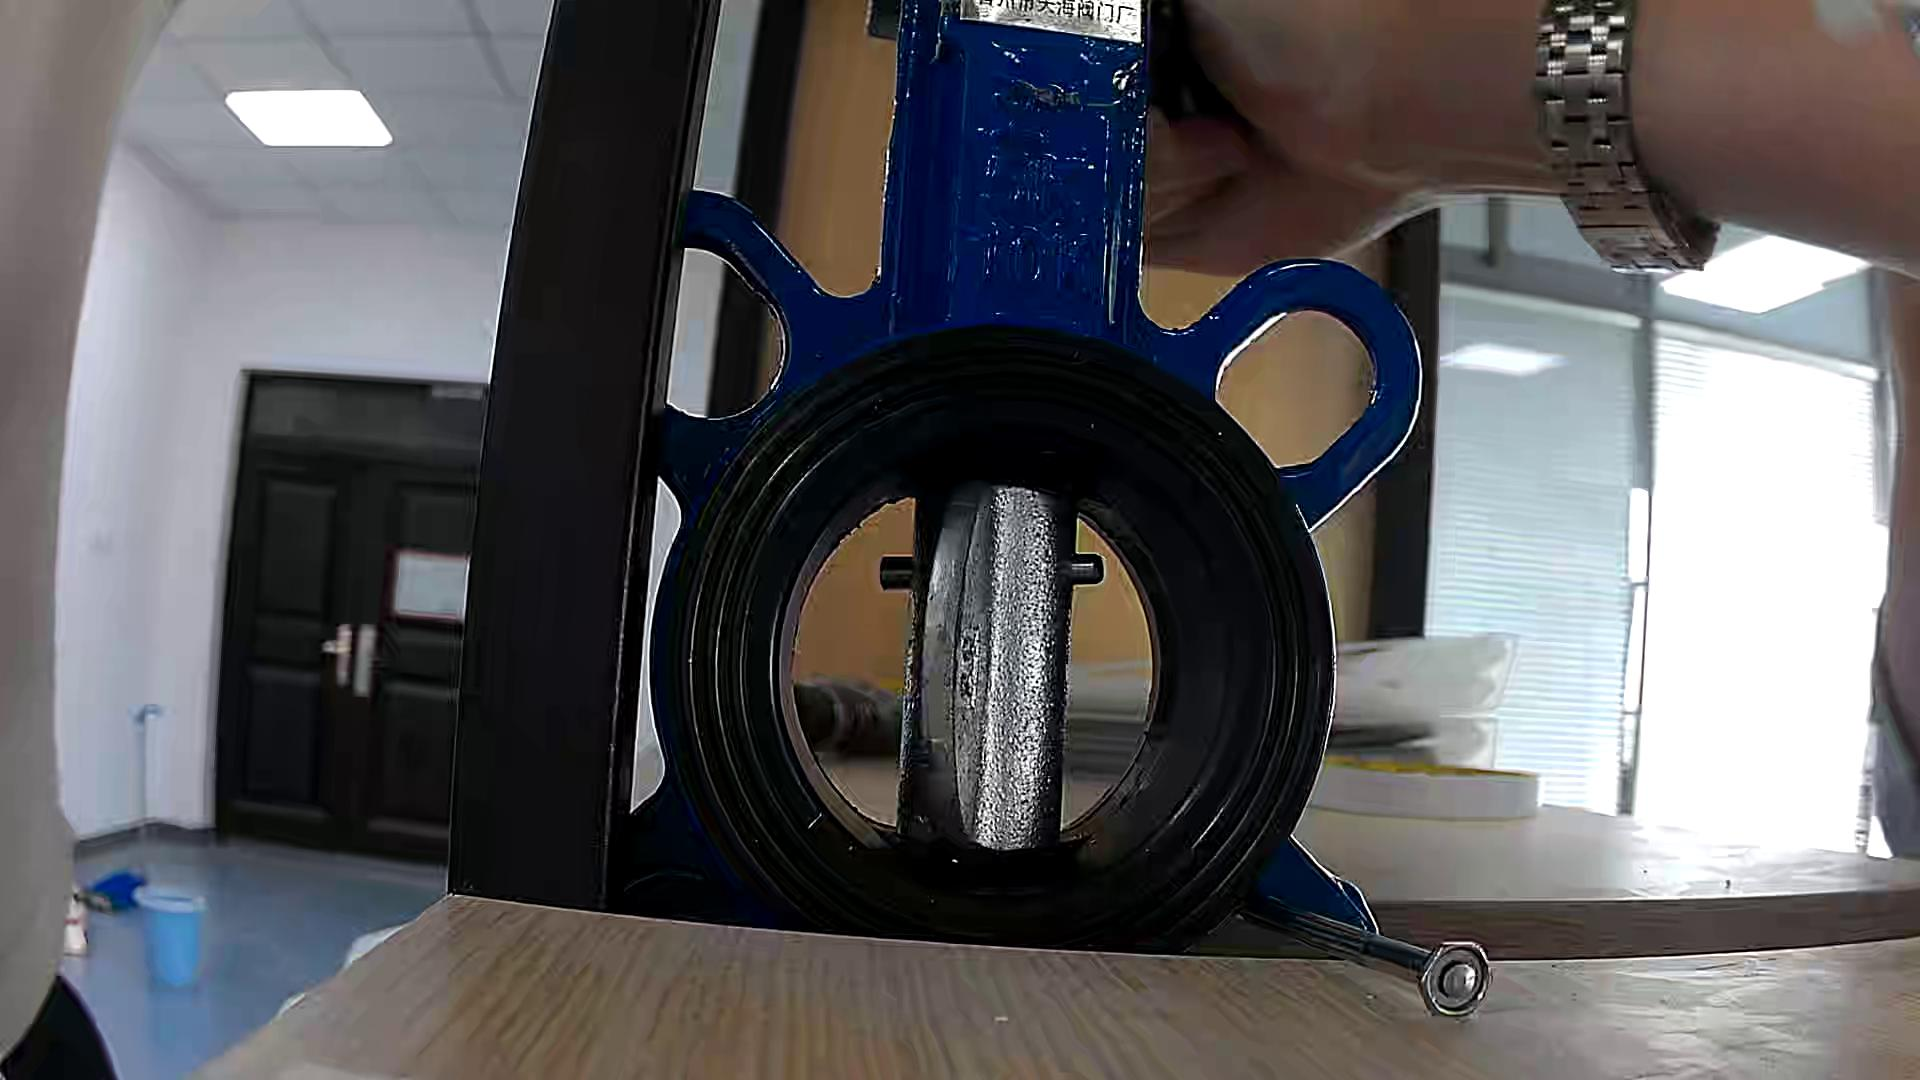valve: (881, 480, 1102, 852)
